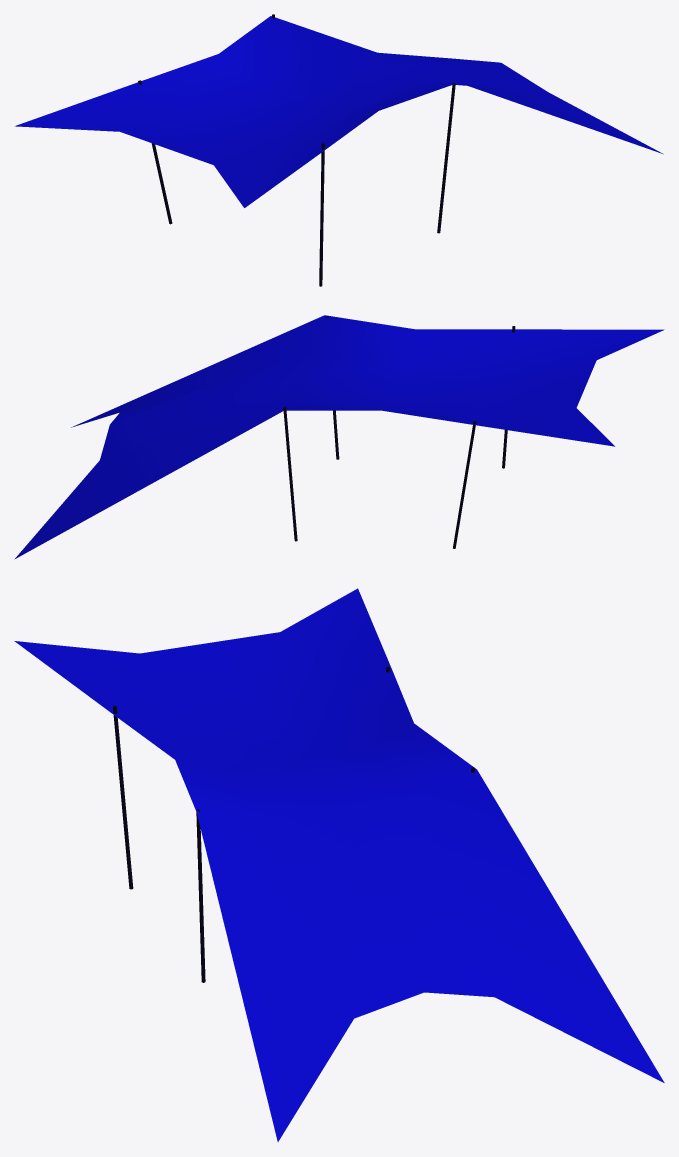
File: Roof-Tent-Blue-6-c.fbx
The picture shows the model from 3 angles, top to bottom: view 1: azimuth 30°, elevation 25°; view 2: azimuth 150°, elevation 25°; view 3: azimuth 270°, elevation 25°; orthographic projection. The views are drawn at different scales.
Visible parts, largest first — view 1: Zeltplane_1; view 2: Zeltplane_1; view 3: Zeltplane_1.
Boxes of the visible parts, x1,y1,x2,y2 form: Zeltplane_1: [15, 14, 663, 286]; Zeltplane_1: [14, 315, 664, 559]; Zeltplane_1: [14, 588, 664, 1141].
Size of the model in its own units: 871 by 215 by 655.
